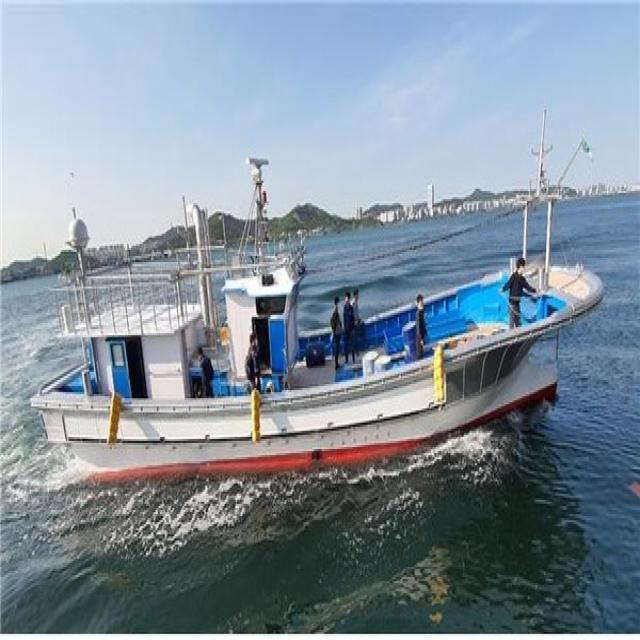Ship: (23, 145, 610, 487)
